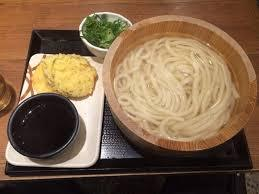kamaage: (109, 16, 251, 148)
satumaimo: (51, 54, 98, 98), (32, 57, 82, 98)
